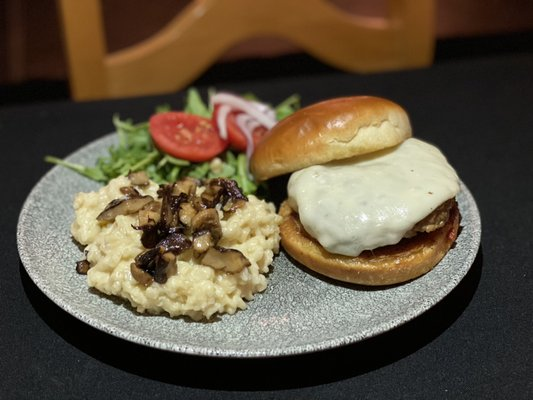soup: (60, 101, 283, 322), (250, 95, 462, 288)
